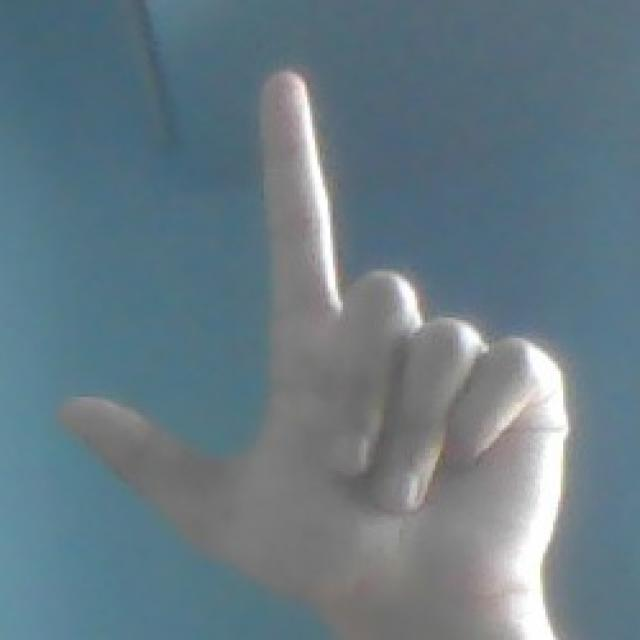Alphabet-L: (64, 69, 577, 640)
